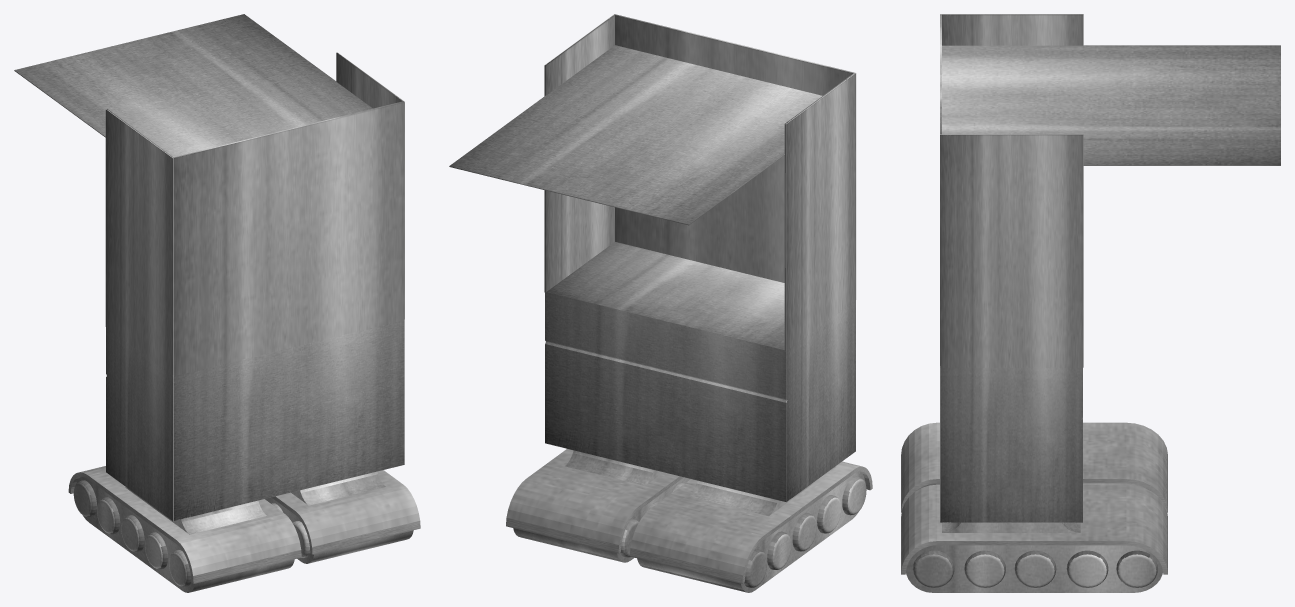
The model's file is car2.obj.
3 views of the same model, side by side, from view 1: azimuth 30°, elevation 25°; view 2: azimuth 150°, elevation 25°; view 3: azimuth 270°, elevation 25° (orthographic). The views are drawn at different scales.
Parts seen in each view (by area): view 1: Line014, Obj3d66_560254_5_353, Rectangle010, Obj3d66_560254_107_442, Obj3d66_560254_21_225, Obj3d66_560254_109_419, Obj3d66_560254_108_286, Obj3d66_560254_20_647, Obj3d66_560254_194_528, Obj3d66_560254_110_288, Obj3d66_560254_114_761, Obj3d66_560254_111_513 (+2 smaller); view 2: Obj3d66_560254_5_353, Line014, Rectangle010, Obj3d66_560254_107_442, Obj3d66_560254_21_225, Obj3d66_560254_109_419, Obj3d66_560254_108_286, Obj3d66_560254_20_647, Obj3d66_560254_194_528, Obj3d66_560254_111_513, Obj3d66_560254_112_752, Obj3d66_560254_113_058 (+2 smaller); view 3: Line014, Rectangle010, Obj3d66_560254_5_353, Obj3d66_560254_21_225, Obj3d66_560254_107_442, Obj3d66_560254_194_528, Obj3d66_560254_20_647, Obj3d66_560254_195_827, Obj3d66_560254_98_201, Obj3d66_560254_97_430, Obj3d66_560254_172_436, Obj3d66_560254_1_281.
Part boxes in pixels (x1,y1,x2,y2): Line014: (105, 52, 404, 376); Obj3d66_560254_5_353: (106, 319, 404, 521); Rectangle010: (14, 14, 372, 157); Obj3d66_560254_107_442: (68, 466, 301, 583); Obj3d66_560254_21_225: (271, 470, 420, 554); Obj3d66_560254_109_419: (76, 476, 294, 592); Obj3d66_560254_108_286: (125, 487, 266, 534); Obj3d66_560254_20_647: (291, 471, 385, 505); Obj3d66_560254_194_528: (265, 497, 413, 563); Obj3d66_560254_110_288: (73, 480, 96, 517); Obj3d66_560254_114_761: (121, 515, 144, 551); Obj3d66_560254_111_513: (97, 497, 120, 534); Obj3d66_560254_5_353: (545, 242, 855, 502); Line014: (544, 14, 856, 351); Rectangle010: (449, 45, 822, 225); Obj3d66_560254_107_442: (630, 461, 872, 583); Obj3d66_560254_21_225: (506, 449, 683, 553); Obj3d66_560254_109_419: (637, 471, 865, 592); Obj3d66_560254_108_286: (689, 466, 835, 515); Obj3d66_560254_20_647: (565, 450, 662, 485); Obj3d66_560254_194_528: (513, 477, 690, 562); Obj3d66_560254_111_513: (767, 531, 791, 569); Obj3d66_560254_112_752: (842, 476, 866, 515); Obj3d66_560254_113_058: (817, 495, 841, 533); Line014: (940, 14, 1083, 367); Rectangle010: (942, 45, 1280, 165); Obj3d66_560254_5_353: (940, 367, 1082, 522); Obj3d66_560254_21_225: (901, 484, 1167, 574); Obj3d66_560254_107_442: (901, 422, 1167, 512); Obj3d66_560254_194_528: (906, 545, 1162, 592); Obj3d66_560254_20_647: (942, 522, 1080, 532); Obj3d66_560254_195_827: (1116, 550, 1157, 587); Obj3d66_560254_98_201: (964, 550, 1005, 587); Obj3d66_560254_97_430: (913, 550, 954, 587); Obj3d66_560254_172_436: (1066, 550, 1108, 587); Obj3d66_560254_1_281: (1014, 550, 1056, 587).
Bounding box in the file's own units: 217 × 385 × 288.
